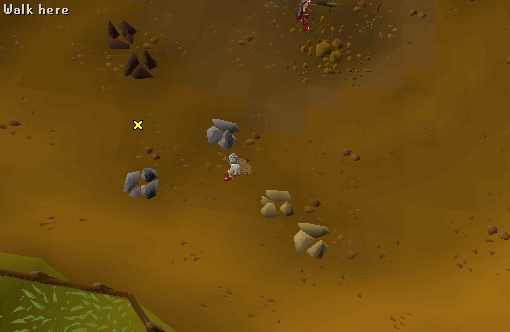clay: (255, 183, 301, 224), (290, 219, 336, 260)
iron: (119, 44, 166, 89)
tin: (203, 113, 245, 155), (121, 161, 163, 203)
